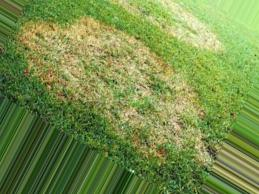patch: (43, 29, 155, 90), (110, 92, 144, 116), (169, 94, 181, 124)
